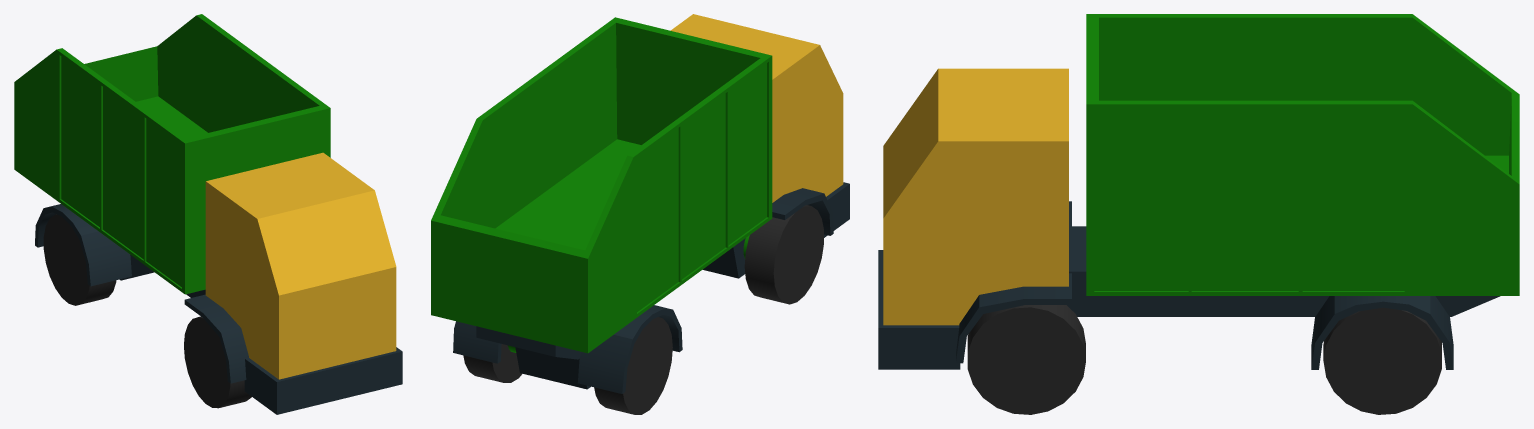
The model's file is Truck Sampah.fbx.
3 views of the same model, side by side, from view 1: azimuth 30°, elevation 25°; view 2: azimuth 150°, elevation 25°; view 3: azimuth 270°, elevation 25° (orthographic). The views are drawn at different scales.
Parts seen in each view (by area): view 1: TruckObject, wheelFR, wheelRR; view 2: TruckObject, wheelFR, wheelRR, wheelRL; view 3: TruckObject, wheelFL, wheelRL.
Part boxes in pixels (bbox=[...]): TruckObject: bbox=[14, 14, 402, 414]; wheelFR: bbox=[184, 316, 251, 408]; wheelRR: bbox=[43, 214, 116, 305]; TruckObject: bbox=[431, 14, 849, 393]; wheelFR: bbox=[744, 205, 823, 304]; wheelRR: bbox=[594, 317, 672, 414]; wheelRL: bbox=[463, 344, 522, 382]; TruckObject: bbox=[878, 14, 1519, 369]; wheelFL: bbox=[967, 305, 1085, 414]; wheelRL: bbox=[1323, 307, 1441, 414].
Bounding box in the file's own units: 2.34 × 3.46 × 6.48.
